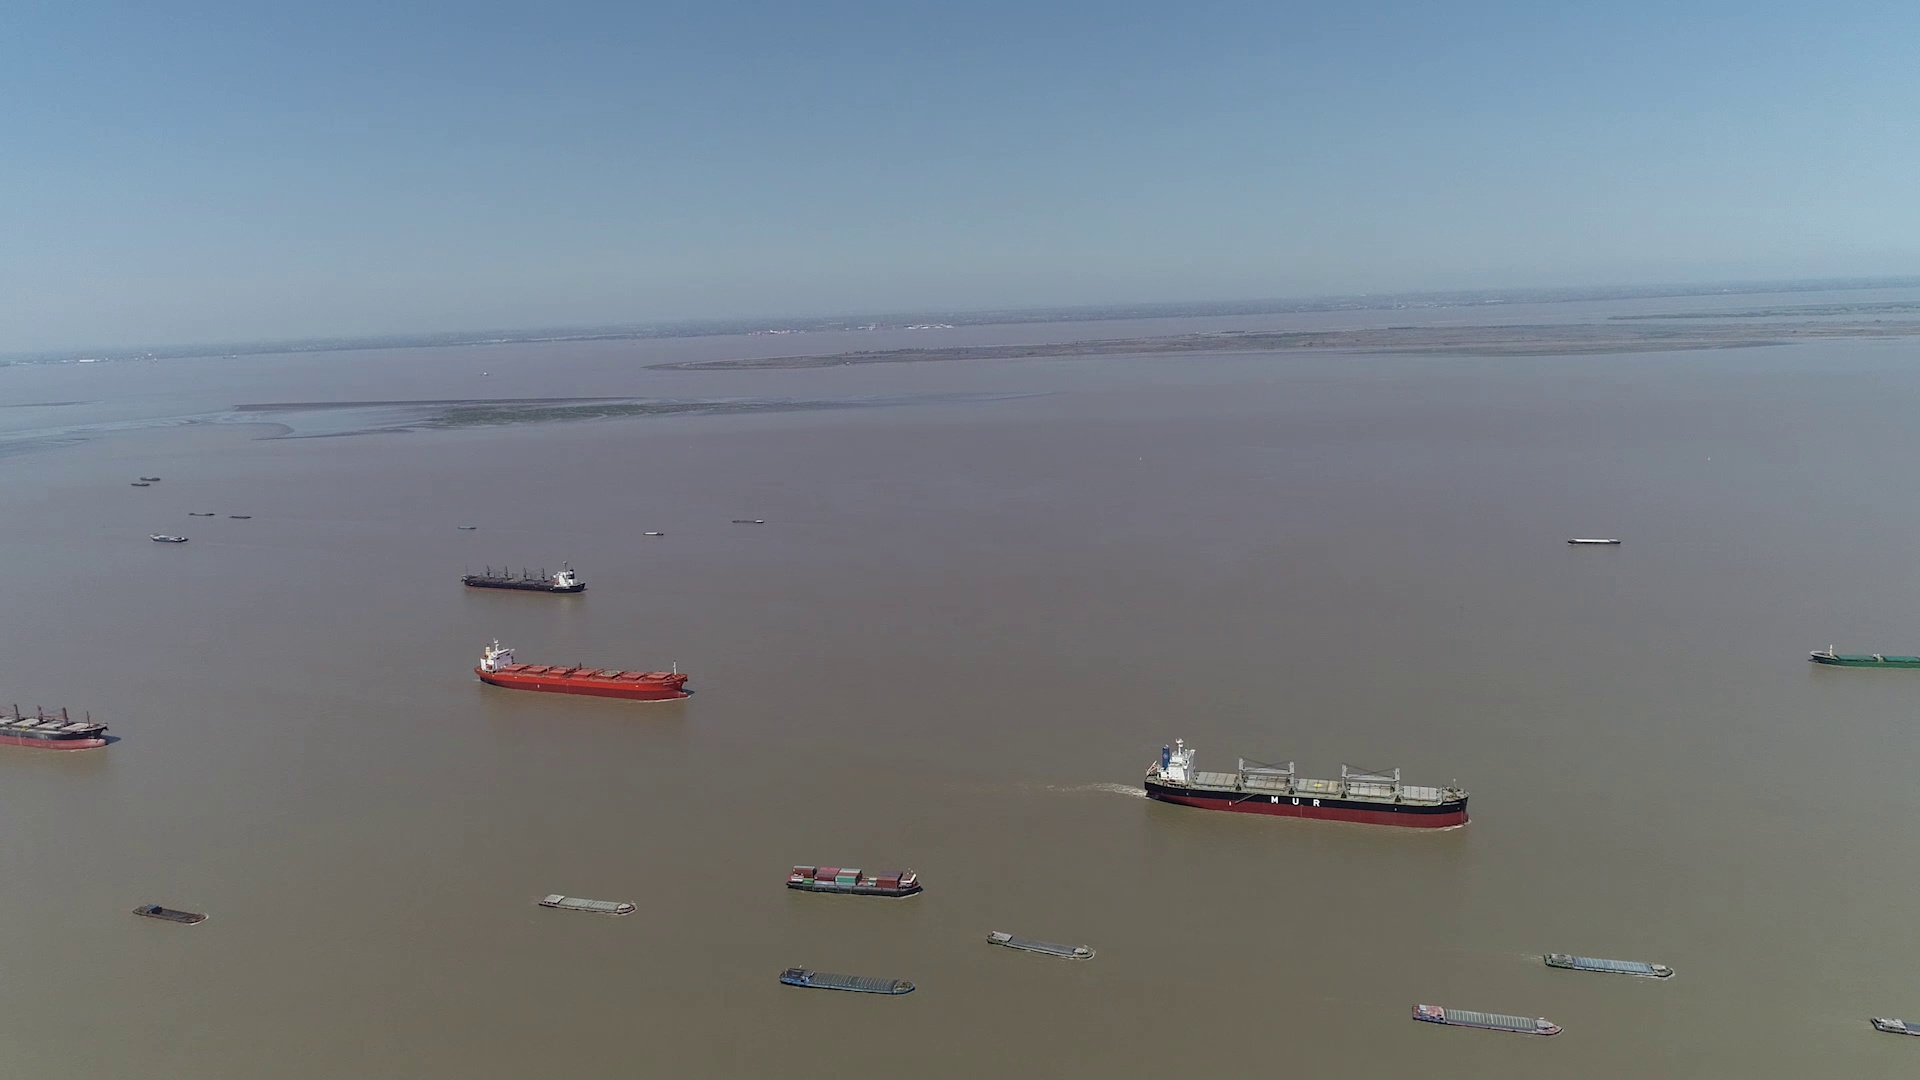ship: (1143, 738, 1466, 829), (476, 638, 687, 700), (1, 688, 112, 753), (789, 864, 924, 899), (1415, 1004, 1557, 1035), (775, 967, 916, 996), (463, 563, 588, 593), (1542, 951, 1673, 978), (982, 931, 1096, 961), (1809, 644, 1919, 667), (535, 890, 636, 915), (135, 901, 206, 924), (1869, 1015, 1917, 1039), (152, 531, 189, 543), (1567, 538, 1617, 546)
